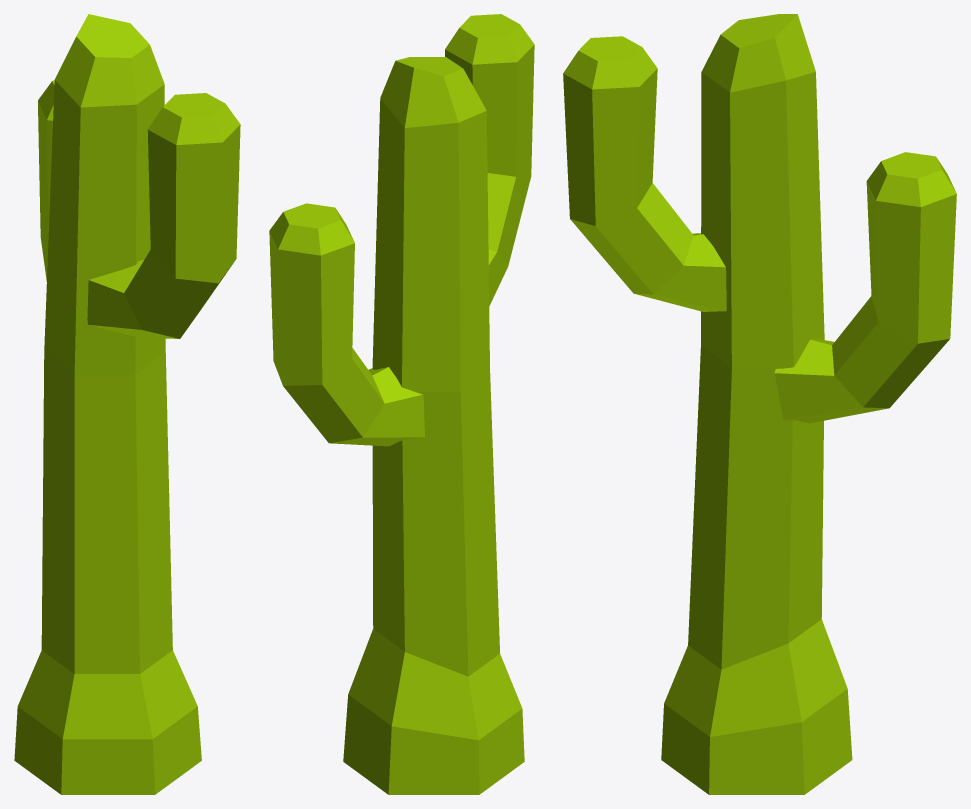
Rendered from Tree_Cactus_2.fbx.
3 renders of one model, left to right at view 1: azimuth 30°, elevation 25°; view 2: azimuth 150°, elevation 25°; view 3: azimuth 270°, elevation 25°, orthographic. The views are drawn at different scales.
Parts seen in each view (by area): view 1: Tree Cactus 2; view 2: Tree Cactus 2; view 3: Tree Cactus 2.
Part boxes in pixels (x1,y1,x2,y2): Tree Cactus 2: (14,14,240,794); Tree Cactus 2: (269,14,534,794); Tree Cactus 2: (563,14,956,794).
Bounding box in the file's own units: 330 × 1443 × 690.
